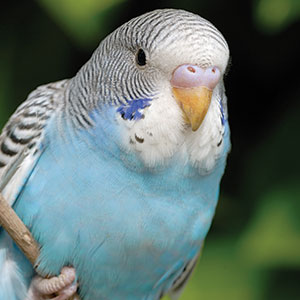budgie: (1, 9, 232, 300)
